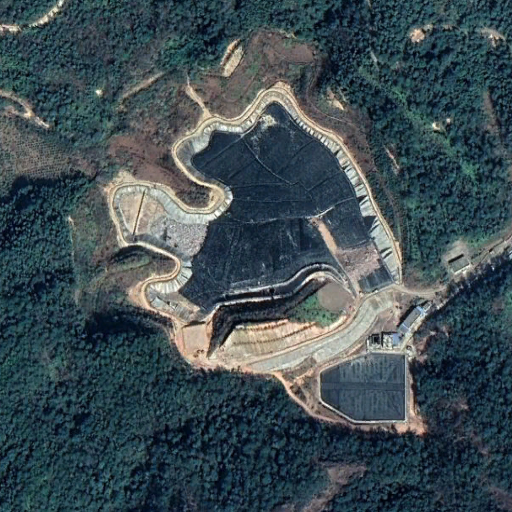lf: (114, 90, 402, 370)
